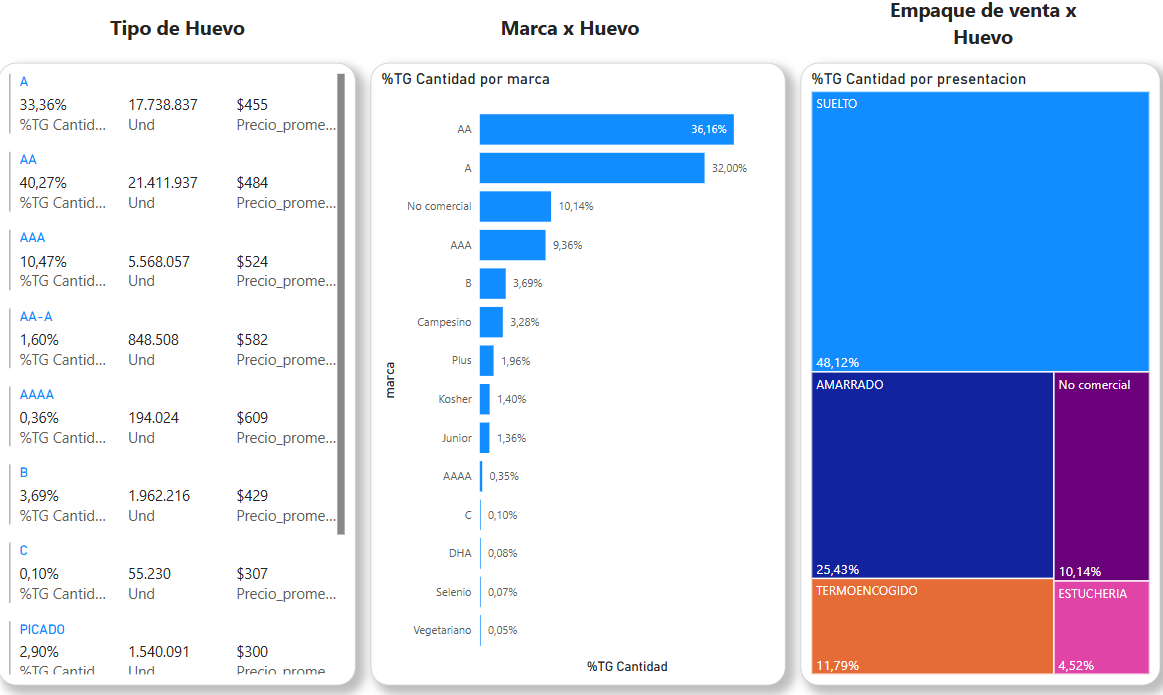

The page's visual inventory and layout, read from the dashboard file:
{"tool":"powerbi","page":{"name":"Graficos de producto","canvas":[1280,800],"ordinal":2},"visuals":[{"type":"textbox","box":[447,48.9,349.2,50.3],"z":0},{"type":"textbox","box":[962,29.9,217.4,69.3],"z":1000},{"type":"clusteredBarChart","fields":{"Y":["Divide(flash_bi_limpio (2).Cantidadneta, ScopedEval(flash_bi_limpio (2).Cantidadneta, []))"],"Category":["flash_bi_limpio (2).marca"]},"box":[404.9,107.3,451.1,676.6],"z":2000},{"type":"treemap","fields":{"Values":["Divide(flash_bi_limpio (2).Cantidadneta, ScopedEval(flash_bi_limpio (2).Cantidadneta, []))"],"Group":["flash_bi_limpio (2).presentacion"]},"box":[872.3,107.3,391.3,676.6],"z":3000},{"type":"multiRowCard","fields":{"Values":["flash_bi_limpio (2).tipo_huevo","Divide(flash_bi_limpio (2).Cantidadneta, ScopedEval(flash_bi_limpio (2).Cantidadneta, []))","flash_bi_limpio (2).Cantidadneta","flash_bi_limpio (2).Precio_promedio"]},"box":[0,107.3,388.6,676.6],"z":4000},{"type":"textbox","box":[20.4,48.9,349.2,50.3],"z":5000}]}

Visuals, with their boxes on the page's 1280x800 design canvas (x1, y1, x2, y2). These are canvas units, not pixel positions in the 1163x695 screenshot, which may show the page scaled, cropped or inside an application window:
textbox: (x1=447, y1=49, x2=796, y2=99)
textbox: (x1=962, y1=30, x2=1179, y2=99)
clusteredBarChart - Divide(flash_bi_limpio (2).Cantidadneta, ScopedEval(flash_bi_limpio (2).Cantidadneta, [])) x flash_bi_limpio (2).marca: (x1=405, y1=107, x2=856, y2=784)
treemap - Divide(flash_bi_limpio (2).Cantidadneta, ScopedEval(flash_bi_limpio (2).Cantidadneta, [])) x flash_bi_limpio (2).presentacion: (x1=872, y1=107, x2=1264, y2=784)
multiRowCard - flash_bi_limpio (2).tipo_huevo x Divide(flash_bi_limpio (2).Cantidadneta, ScopedEval(flash_bi_limpio (2).Cantidadneta, [])): (x1=0, y1=107, x2=389, y2=784)
textbox: (x1=20, y1=49, x2=370, y2=99)
